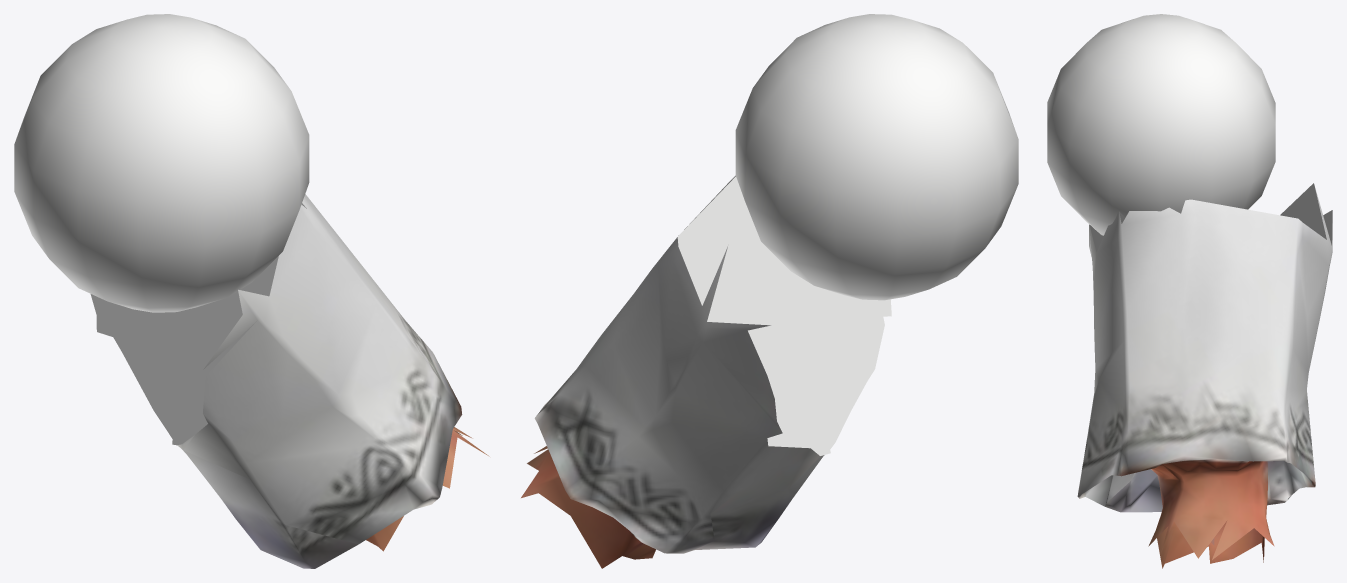
Rendered from hombre_brazo_izq.obj.
3 renders of one model, left to right at view 1: azimuth 30°, elevation 25°; view 2: azimuth 150°, elevation 25°; view 3: azimuth 270°, elevation 25°, orthographic. The views are drawn at different scales.
Visible parts, largest first — view 1: hombre_brazo_izq; view 2: hombre_brazo_izq; view 3: hombre_brazo_izq.
Boxes of the visible parts, bbox=[...] form: hombre_brazo_izq: bbox=[14, 14, 489, 568]; hombre_brazo_izq: bbox=[521, 14, 1018, 568]; hombre_brazo_izq: bbox=[1047, 14, 1332, 568].
Bounding box in the file's own units: 0.2923 × 0.3504 × 0.197.
